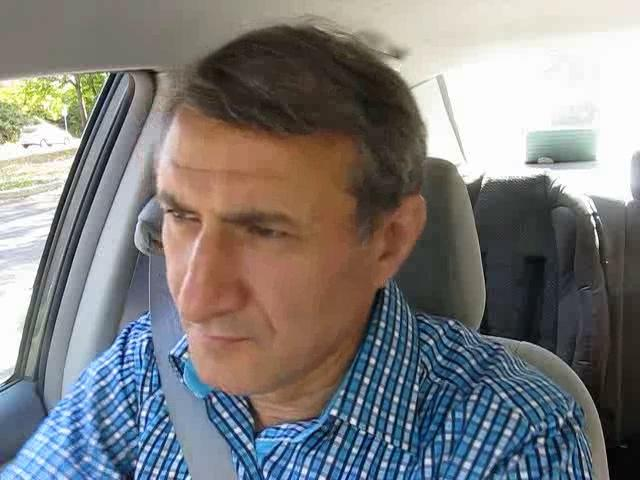close_eyeL: (156, 200, 205, 238)
close_eyeR: (229, 207, 310, 256)
no_yawn: (168, 315, 269, 365)
